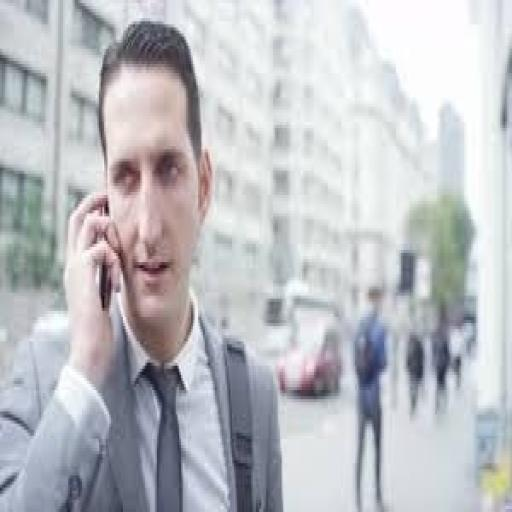calling: (0, 15, 285, 509)
